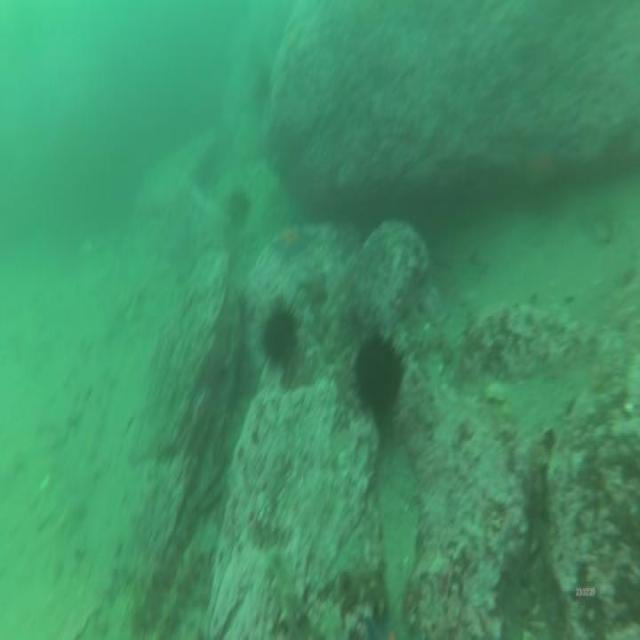echinus: (358, 334, 402, 409), (266, 311, 296, 362), (227, 194, 248, 223)
holothurian: (151, 548, 208, 640), (265, 550, 299, 629)
starfish: (272, 226, 312, 259)
